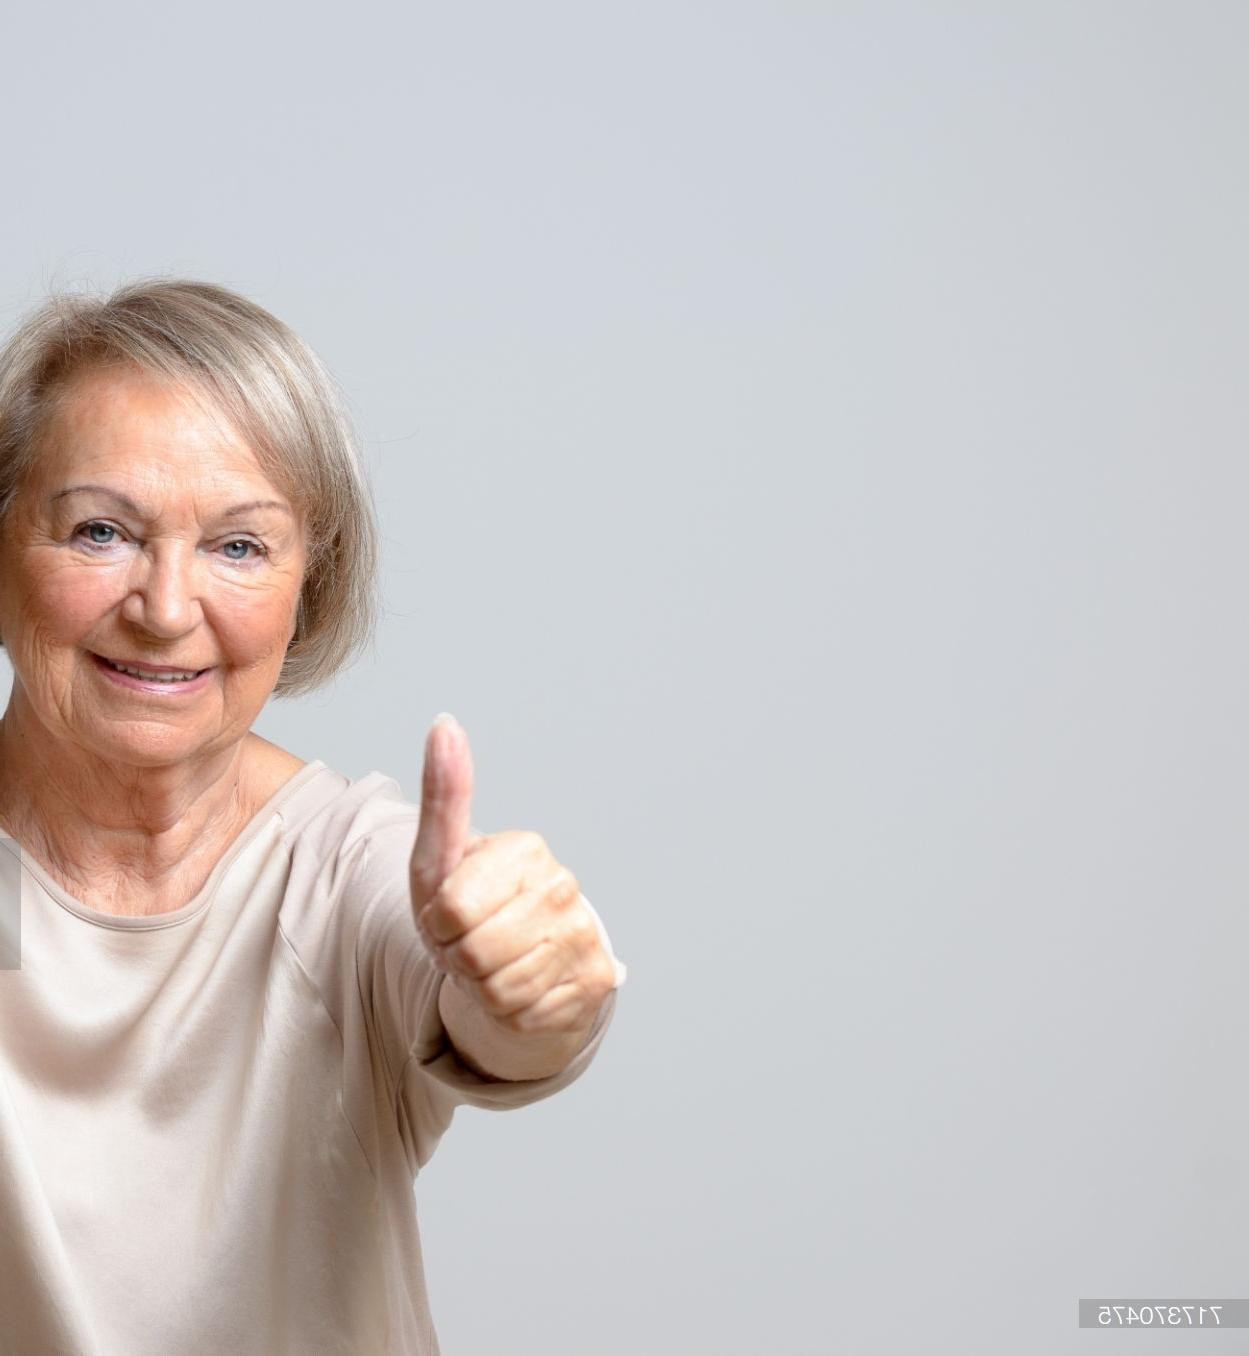thumbsup: (409, 710, 616, 1035)
